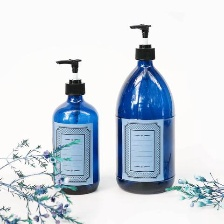bottle: (112, 44, 184, 199), (42, 77, 106, 203)
